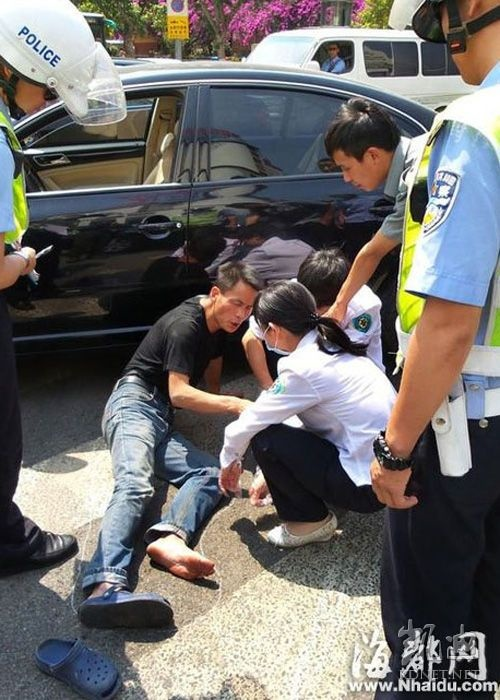falling: (59, 248, 271, 655)
